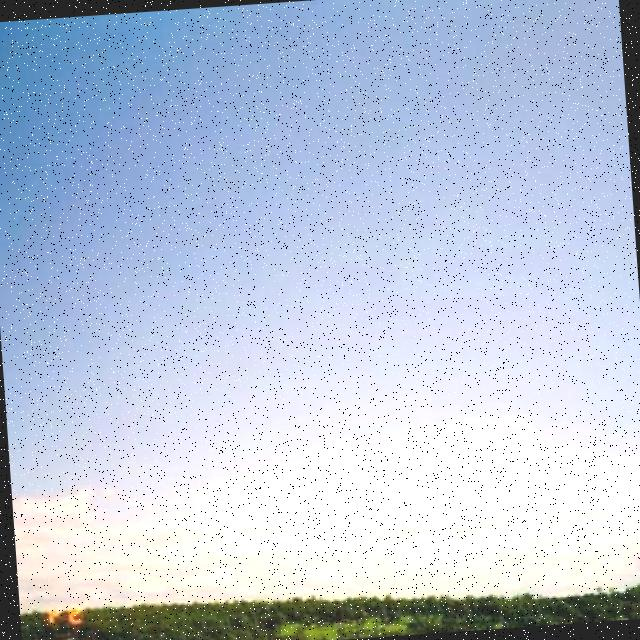Sc: (9, 399, 640, 596)
